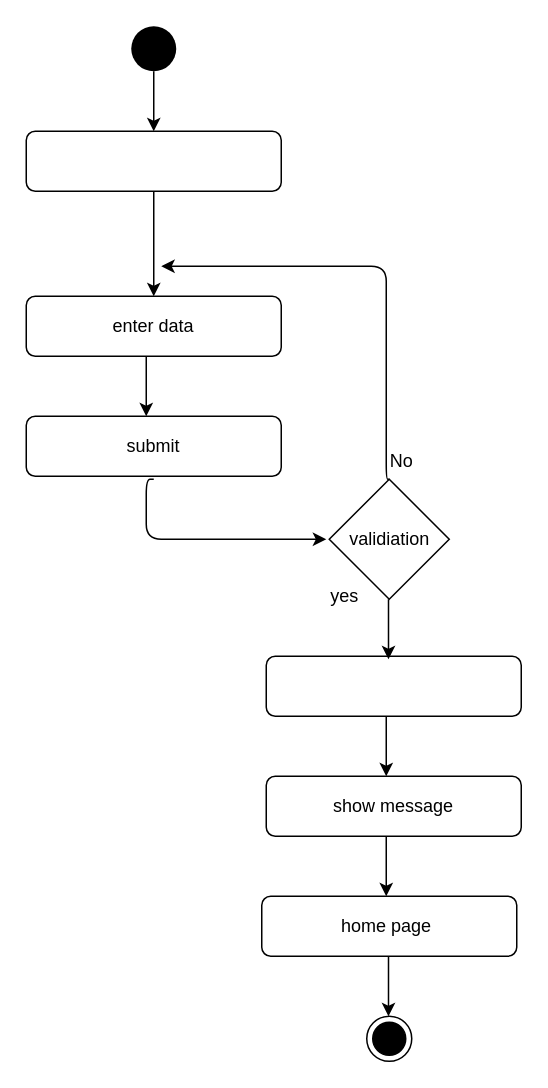
Some shapes in this 548 by 1088 pixel diagram are drawn without their labels. The shapes that lost their labels are listed below. From the top down, each one's box as (x1, y1, x2, y2) in pixels, then its label:
(25, 130, 281, 191): sign up donor screen
(265, 655, 521, 716): add user to data base
